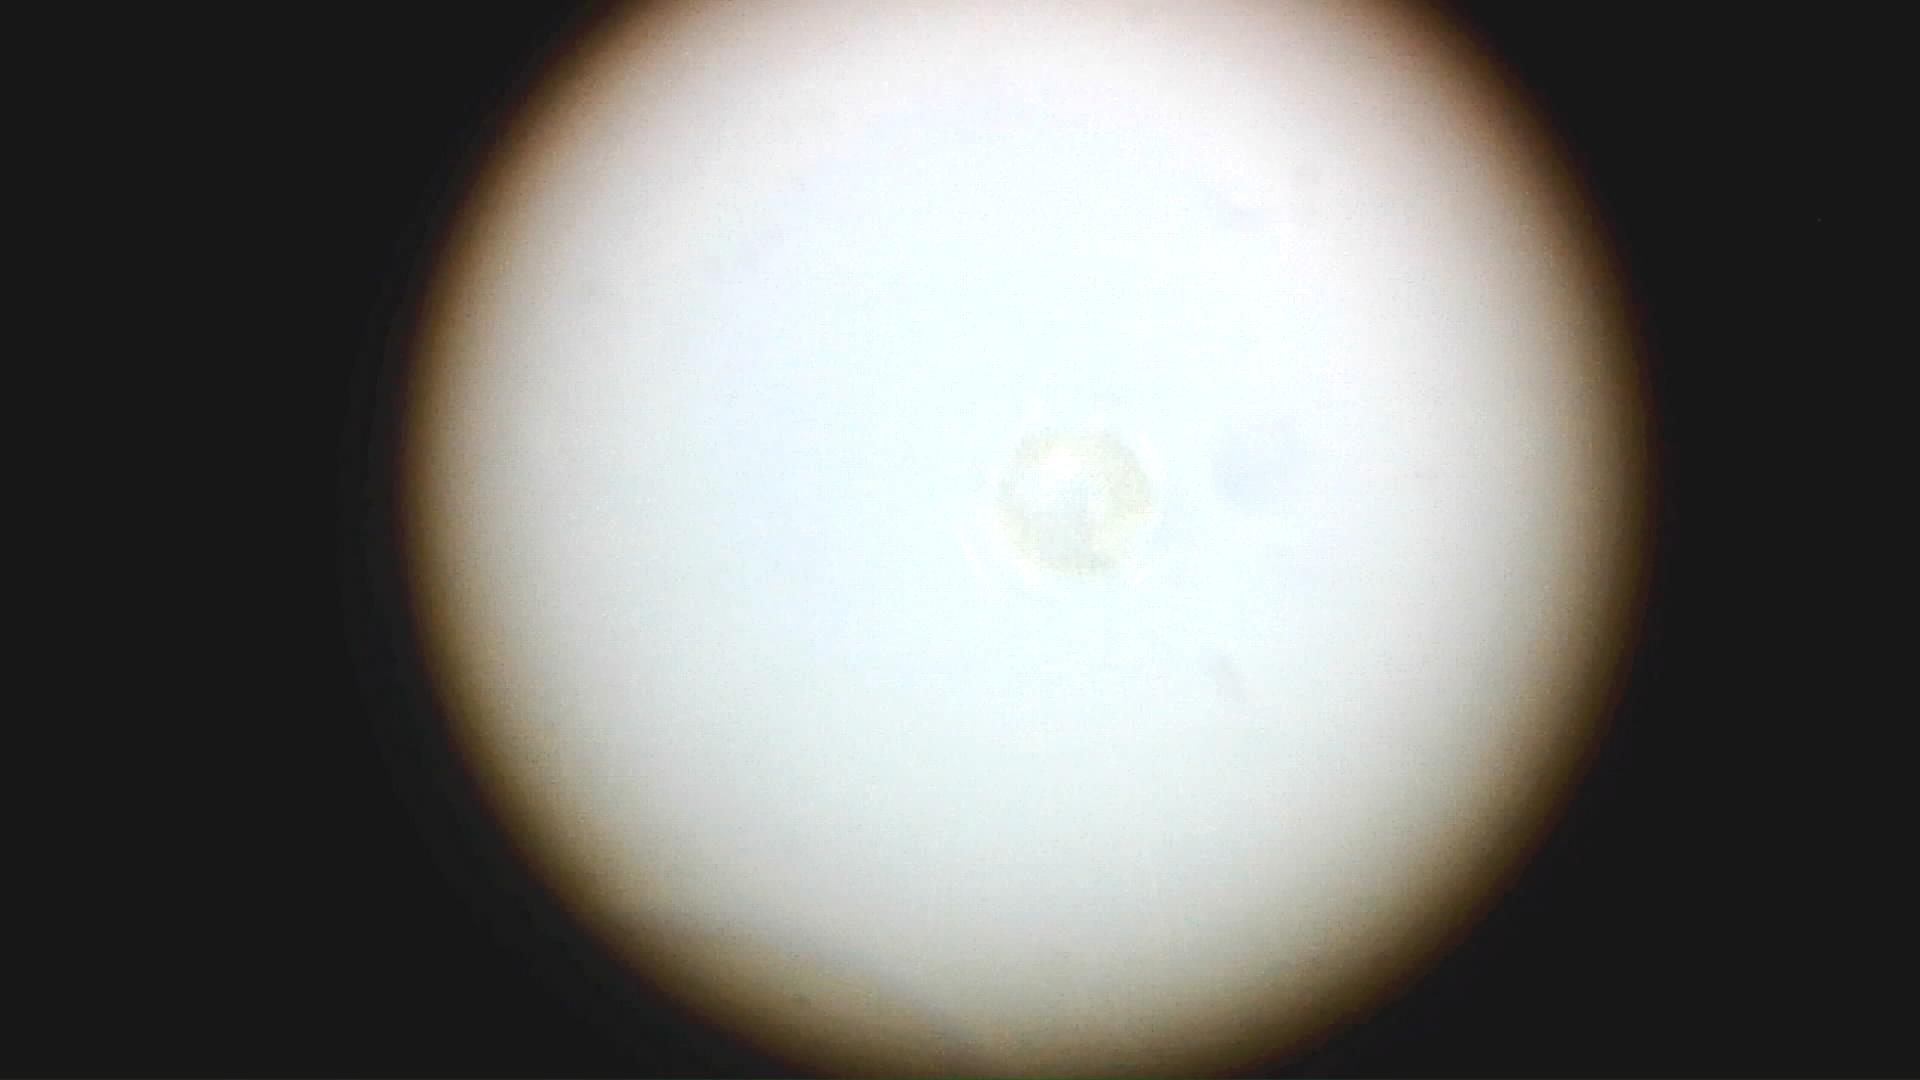alexandrium minutum: (977, 400, 1171, 603)
